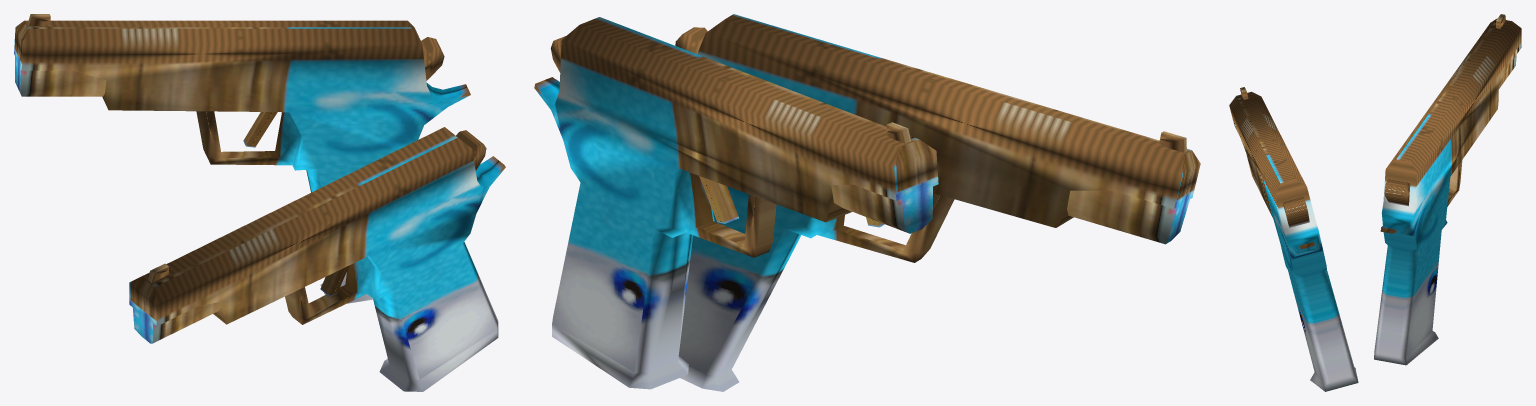
File: icon.icn.obj
The picture shows the model from 3 angles, left to right: view 1: azimuth 30°, elevation 25°; view 2: azimuth 150°, elevation 25°; view 3: azimuth 270°, elevation 25°; orthographic projection. The views are drawn at different scales.
Bounding box in the file's own units: 2.94 × 2.31 × 2.29.
